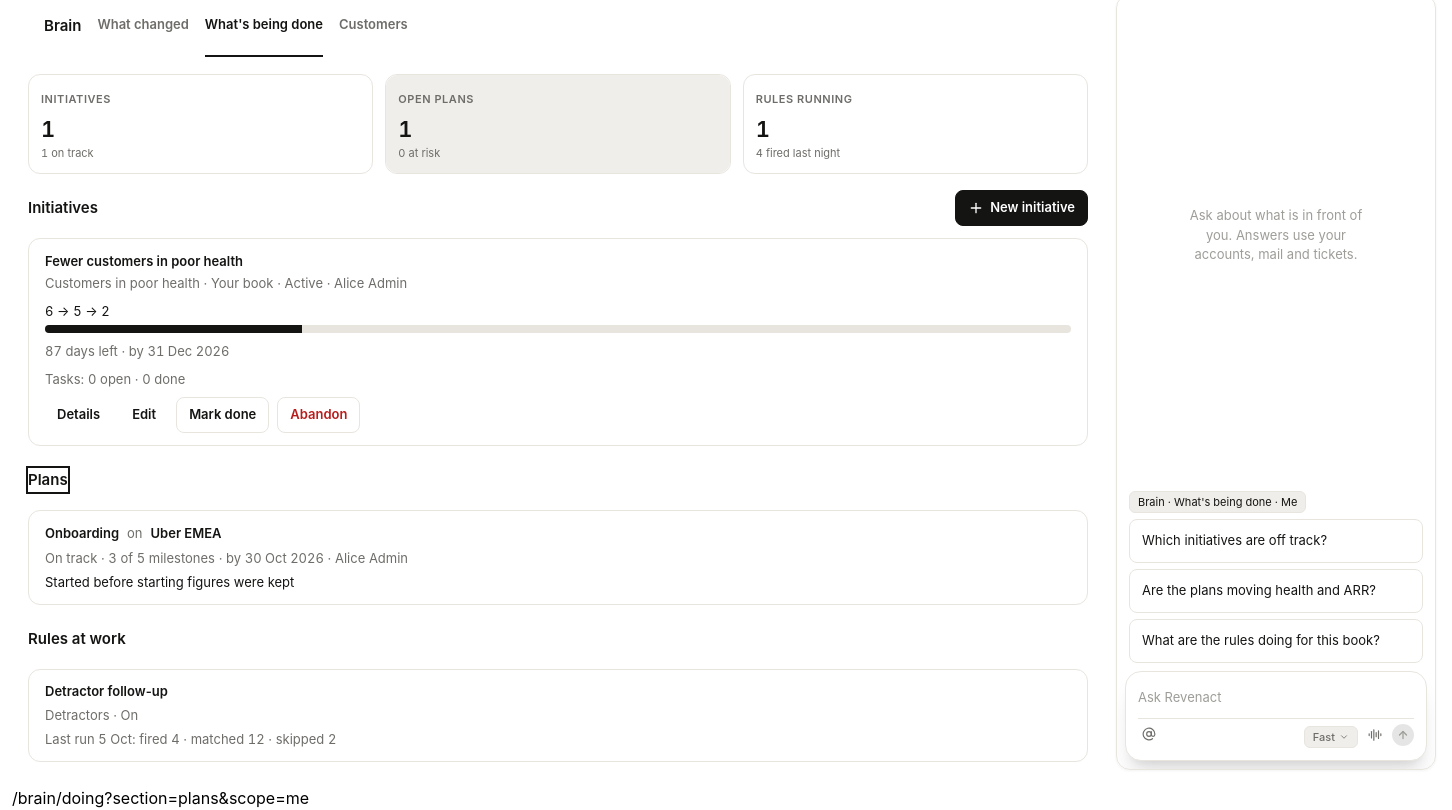
Scenario: What's being done (spec §2.1) › lands on ?section= and focuses its heading; a section link moves there, keeping the scope (Decision 2)
(page scrolled)
Click the link "Rules running 1 4 fired last night".
click(804, 99)  # box 756,92 -> 852,160
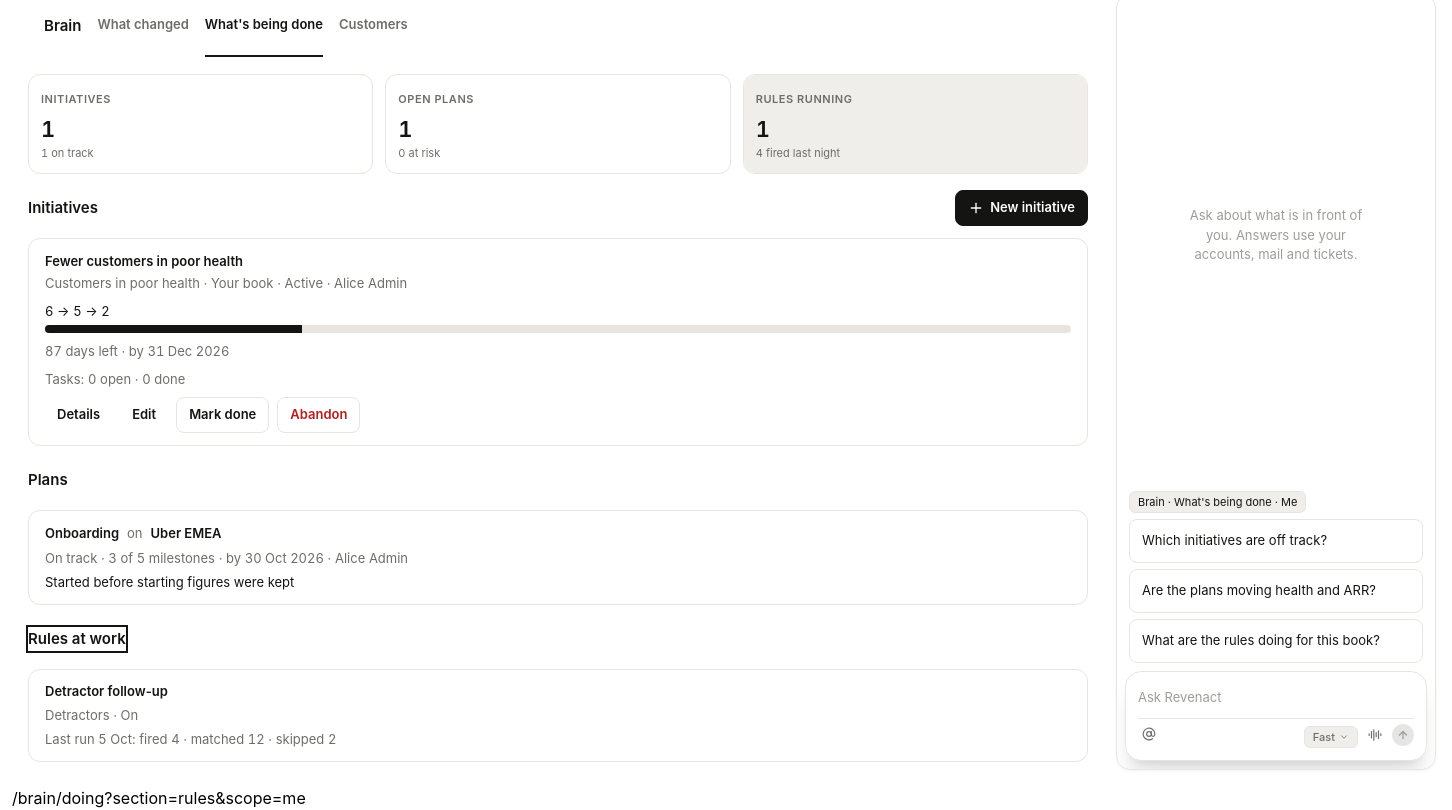
expect the text with test id "where" reads "/brain/doing?section=rules&scope=me": met, box 12,788 -> 306,808
